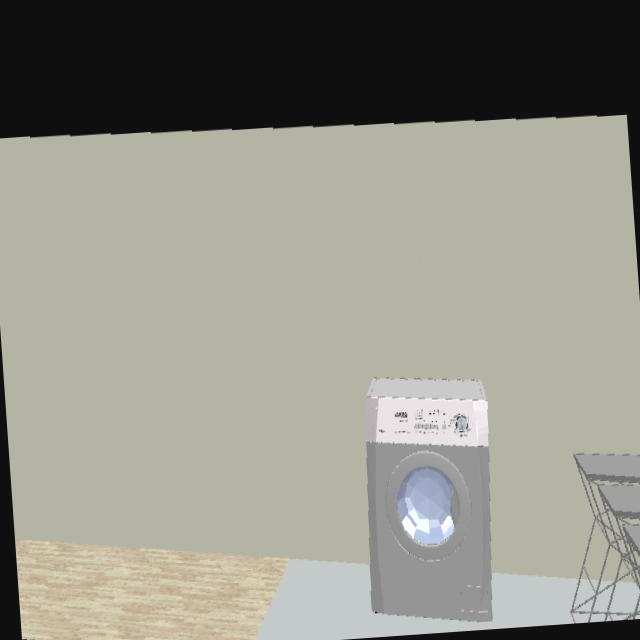chair: (573, 454, 640, 620)
